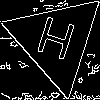H: (31, 15, 78, 70)
